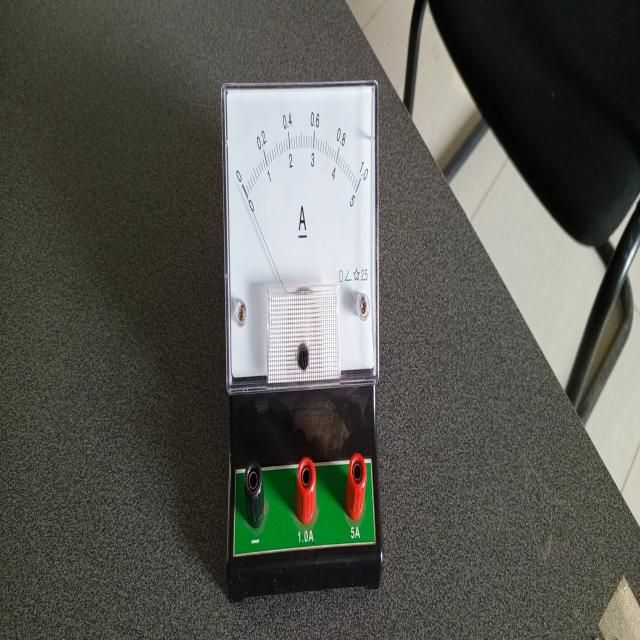Ammeter Analog: (220, 79, 389, 585)
